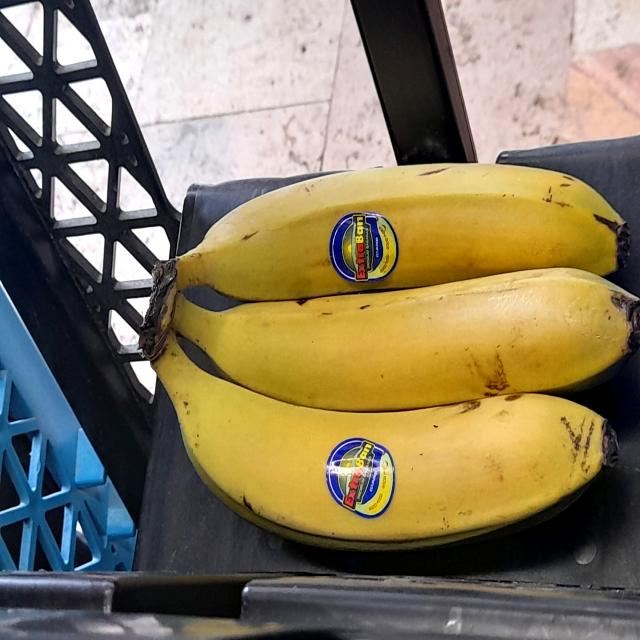banana: (137, 124, 640, 563), (145, 307, 628, 547)
